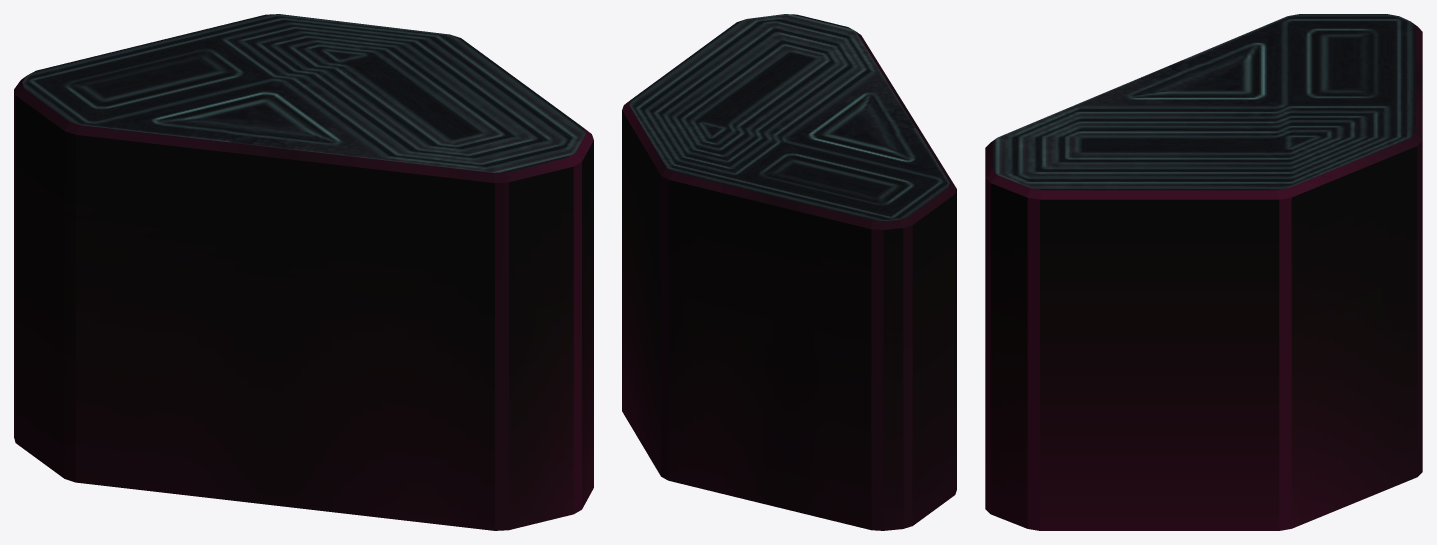
The model's file is SM_Wall_01.fbx.
The picture shows the model from 3 angles, left to right: view 1: azimuth 30°, elevation 25°; view 2: azimuth 150°, elevation 25°; view 3: azimuth 270°, elevation 25°; orthographic projection. The views are drawn at different scales.
Visible parts, largest first — view 1: Wall_01; view 2: Wall_01; view 3: Wall_01.
Boxes of the visible parts, x1,y1,x2,y2 form: Wall_01: [14, 14, 593, 530]; Wall_01: [622, 14, 956, 530]; Wall_01: [985, 14, 1422, 530].
Bounding box in the file's own units: 3.38 × 2.92 × 3.43.
